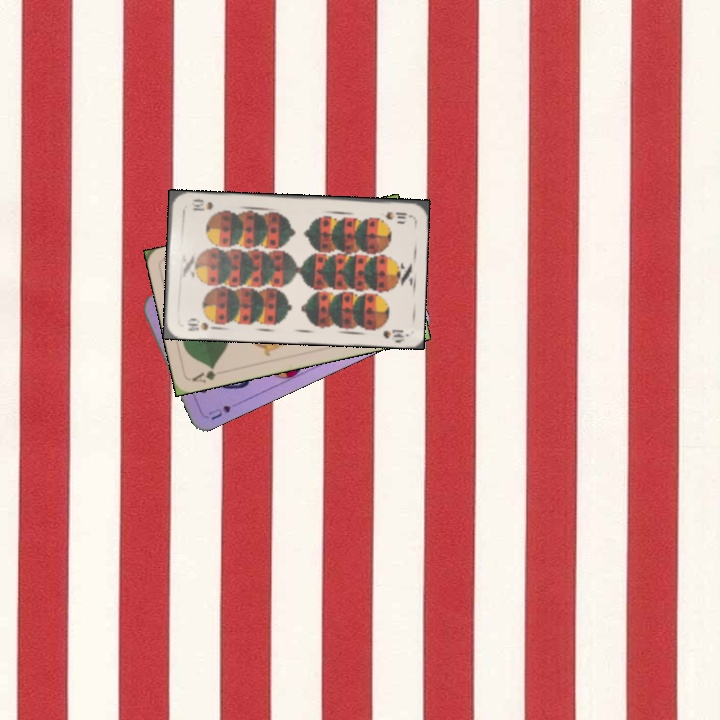GA: (188, 362, 218, 385)
S10: (184, 318, 219, 334), (381, 208, 409, 222)
SU: (205, 401, 233, 422)
